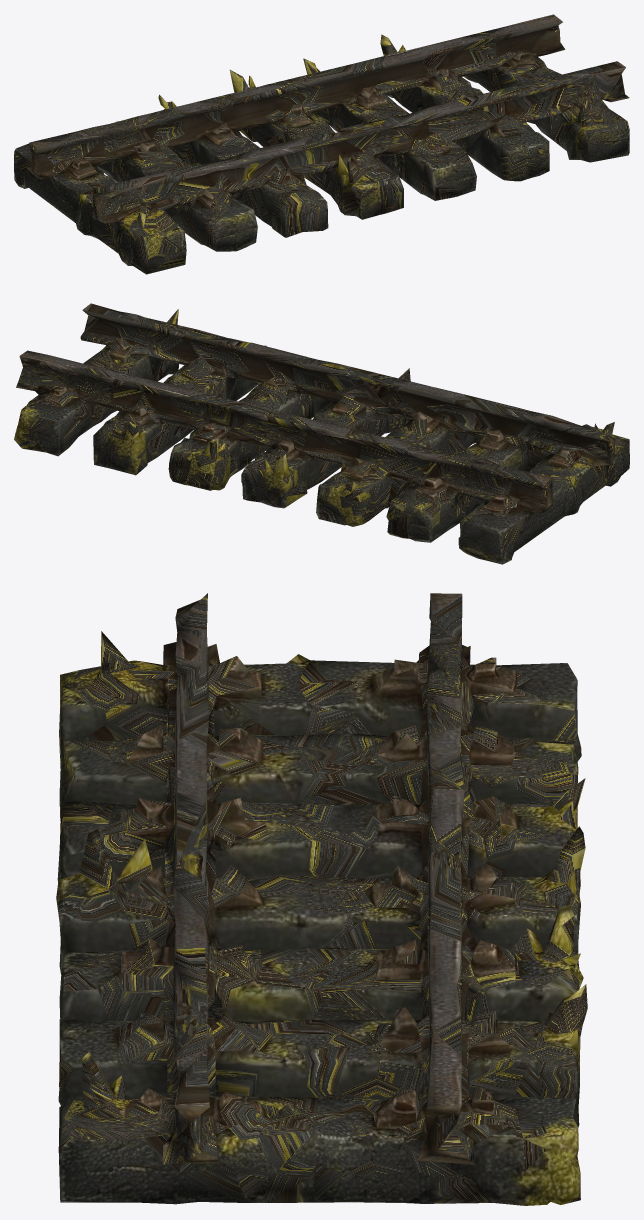
The model's file is railroad_track_06.glb.
3 renders of one model, top to bottom at view 1: azimuth 30°, elevation 25°; view 2: azimuth 150°, elevation 25°; view 3: azimuth 270°, elevation 25°, orthographic. The views are drawn at different scales.
Visible parts, largest first — view 1: tripo_node_4196552a-cd73-431b-ba59-fee9422c0f23; view 2: tripo_node_4196552a-cd73-431b-ba59-fee9422c0f23; view 3: tripo_node_4196552a-cd73-431b-ba59-fee9422c0f23.
Boxes of the visible parts, x1,y1,x2,y2 form: tripo_node_4196552a-cd73-431b-ba59-fee9422c0f23: (14,14,629,274); tripo_node_4196552a-cd73-431b-ba59-fee9422c0f23: (14,303,629,564); tripo_node_4196552a-cd73-431b-ba59-fee9422c0f23: (56,593,587,1205).
Bounding box in the file's own units: 0.9854 × 0.1166 × 0.4299.
Materials: 1 (1 with a texture image).
